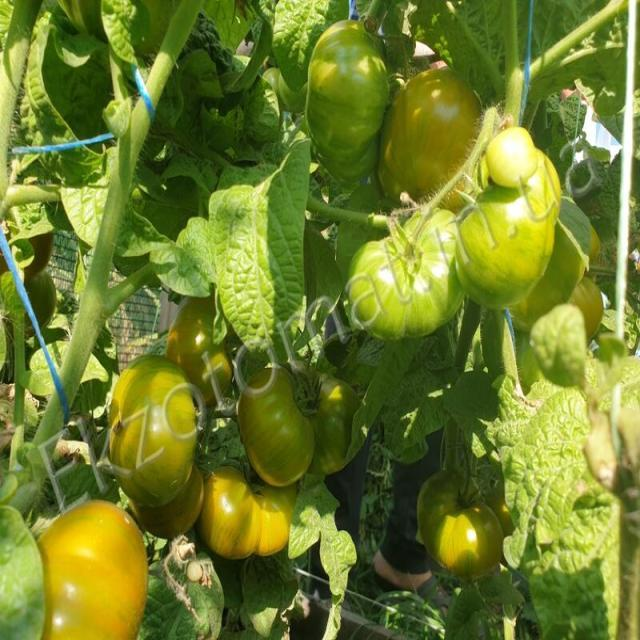yesil: (102, 348, 368, 556)
